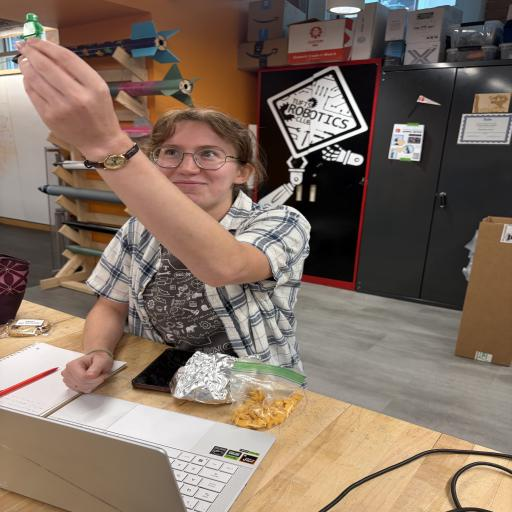Green-Lego: (19, 13, 44, 42)
